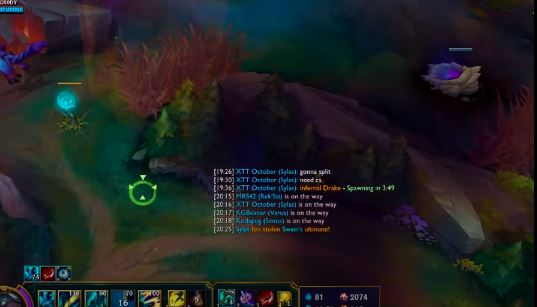bar: (1, 2, 26, 16)
